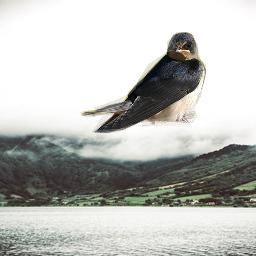Swallow: (80, 32, 206, 133)
